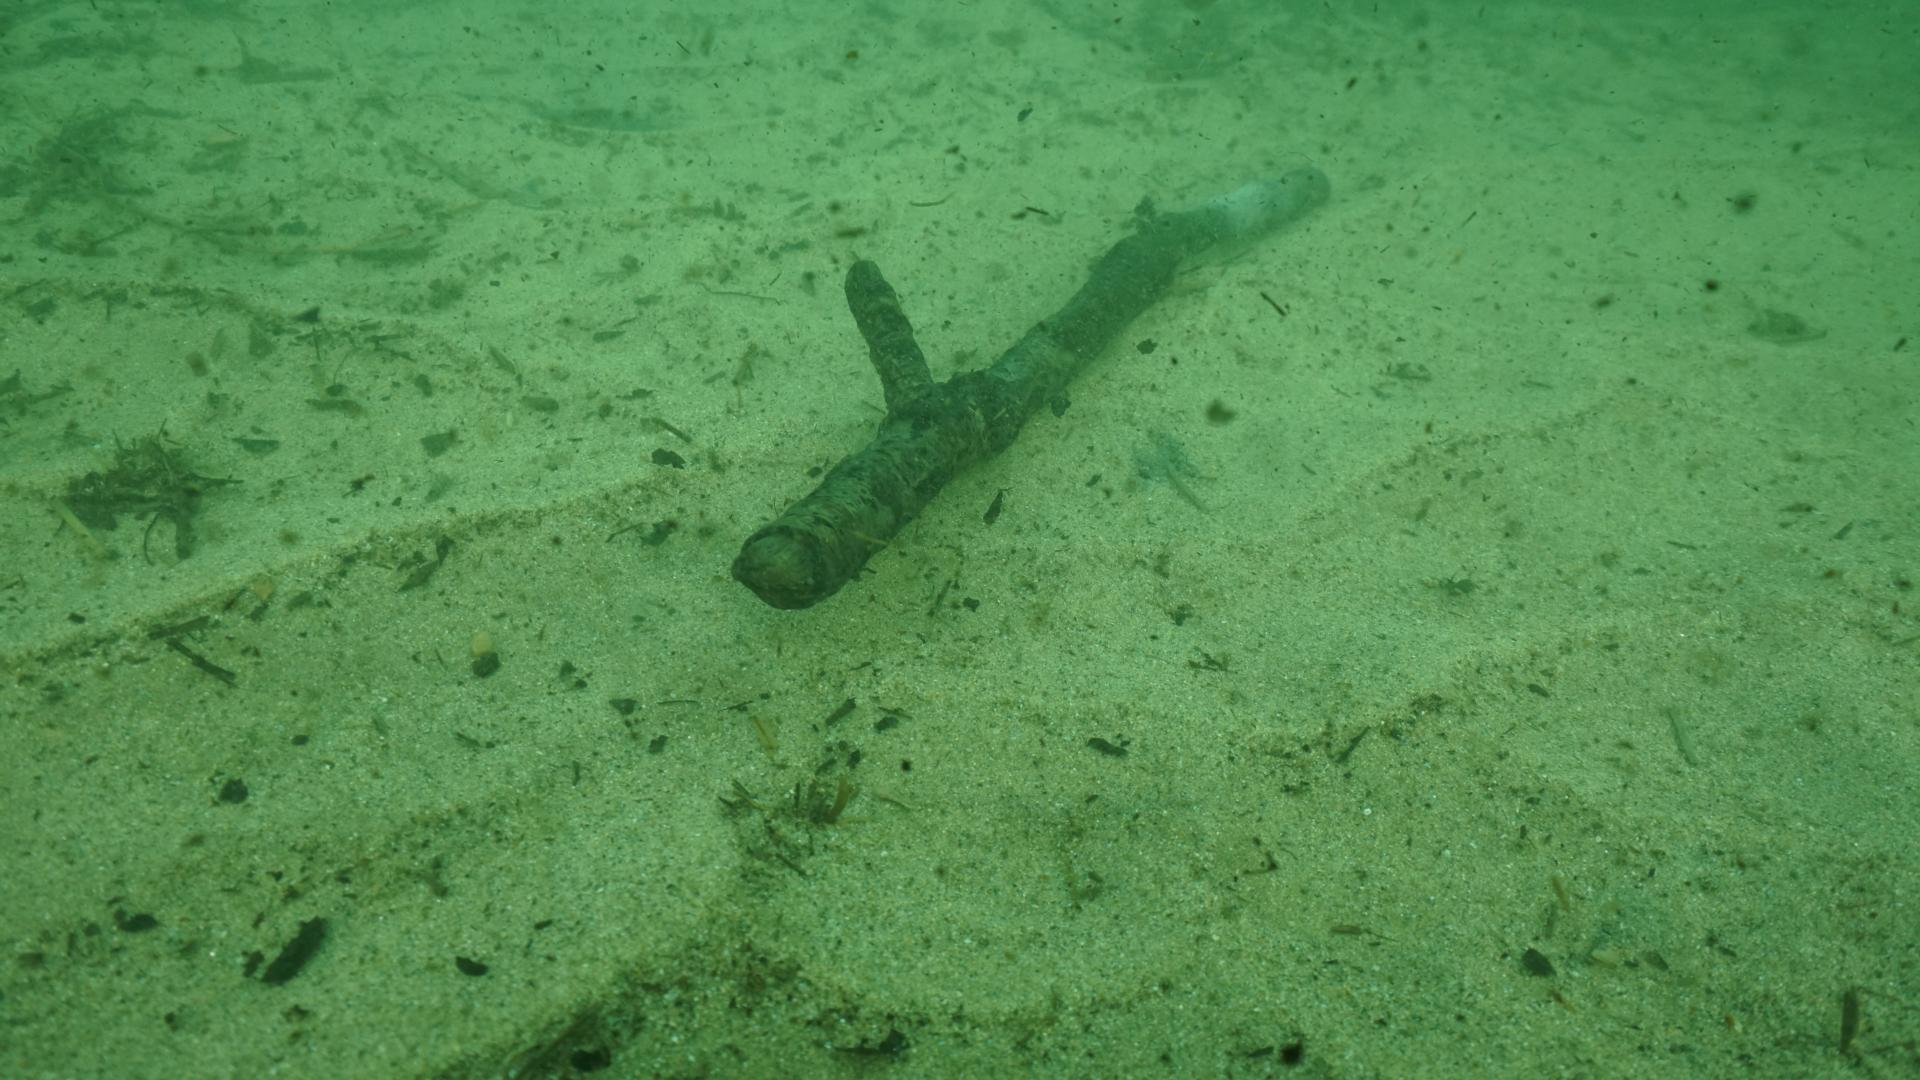wood: (727, 157, 1319, 616)
